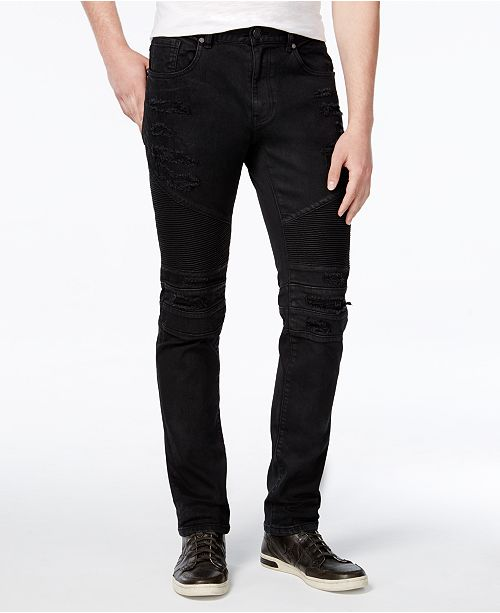Jeans: (142, 31, 356, 532)
